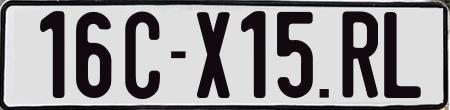1: (240, 10, 269, 103), (38, 8, 65, 97)
5: (276, 10, 312, 101)
6: (75, 9, 111, 98)
C: (125, 8, 160, 102)
L: (383, 12, 423, 102)
R: (340, 10, 380, 98)
X: (194, 9, 228, 95)
